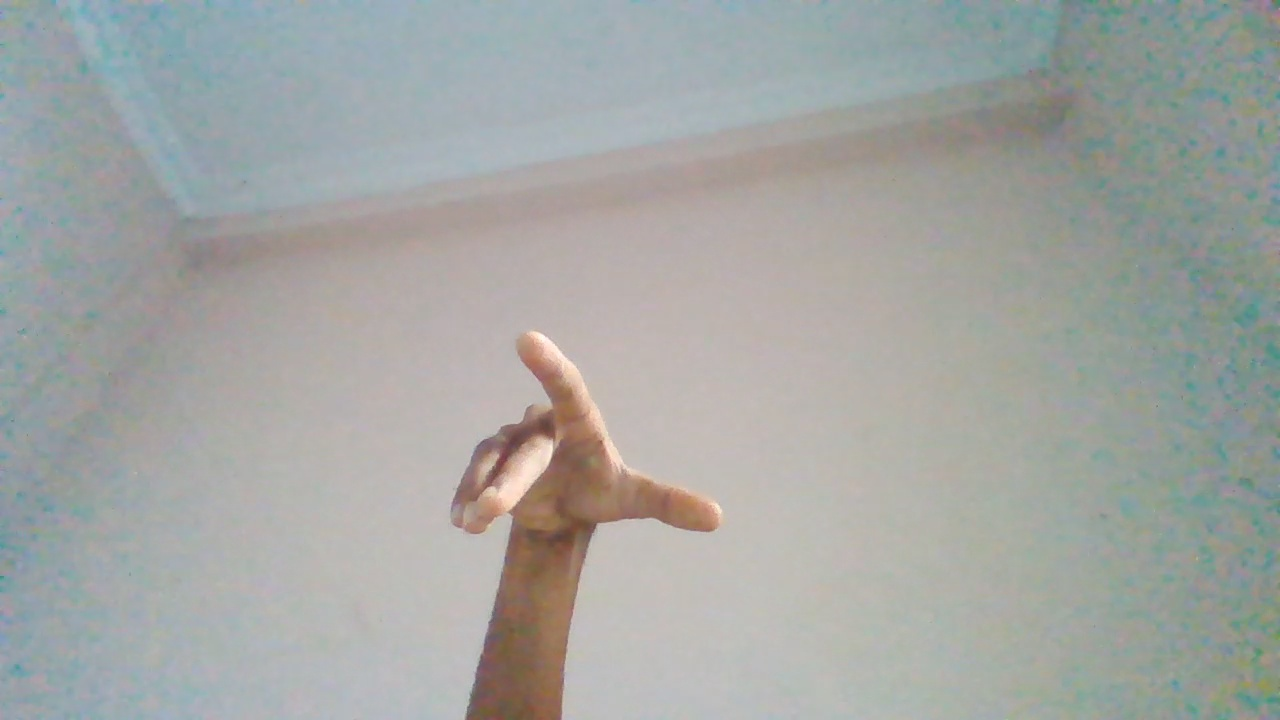ke: (454, 337, 726, 720)
